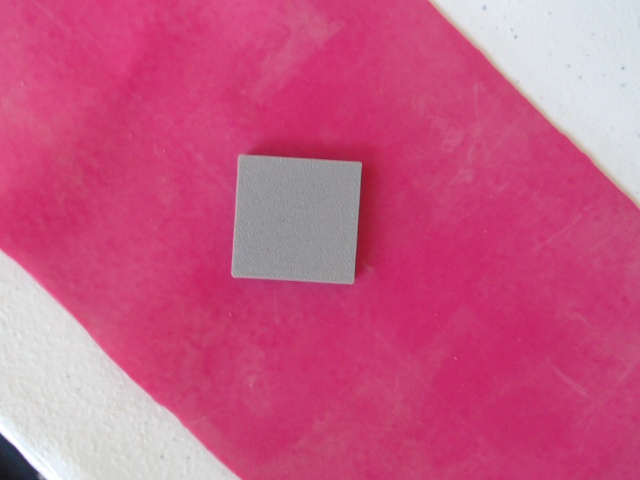Defective: (229, 152, 363, 293)
